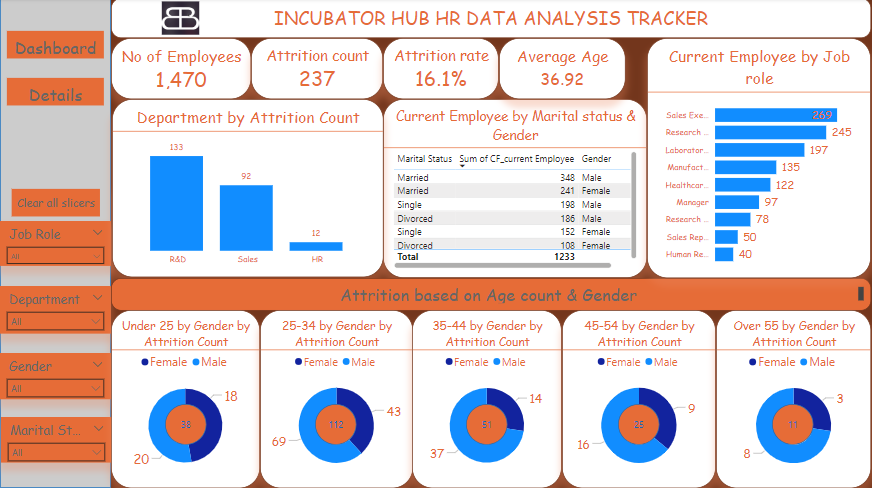

What the dashboard file says about the page in this screenshot:
{"tool":"powerbi","page":{"name":"HR view1","canvas":[1280,720],"ordinal":0},"visuals":[{"type":"textbox","box":[163,0,1117,59],"z":0},{"type":"card","title":"No of Employees","fields":{"Values":["Sum(HR data.Employee Count)"]},"box":[163,59,206,90],"z":1000},{"type":"slicer","title":"Current Employees","fields":{"Values":["HR data.Job Role"]},"box":[0,260,163,175],"z":2000},{"type":"card","title":"Attrition count","fields":{"Values":["Sum(HR data.Count of Attrition)"]},"box":[369,59,194,90],"z":3000},{"type":"card","title":"Attrition rate","fields":{"Values":["HR data.Attrition rate"]},"box":[563,59,170,90],"z":4000},{"type":"shape","box":[0,0,163,720],"z":5000},{"type":"actionButton","box":[11,48,142,40],"z":6000},{"type":"tableEx","title":"Current Employee by Marital status & Gender","fields":{"Values":["HR data.Marital Status","Sum(HR data.CF_current Employee)","HR data.Gender"]},"box":[563,149,418,262],"z":7000},{"type":"actionButton","box":[11,118,142,40],"z":8000},{"type":"slicer","title":"No of Employees","fields":{"Values":["HR data.Department"]},"box":[0,423,163,70],"z":9000},{"type":"slicer","title":"No of Employees","fields":{"Values":["HR data.Gender"]},"box":[0,521,163,68],"z":10000},{"type":"slicer","title":"No of Employees","fields":{"Values":["HR data.Job Role"]},"box":[0,327,163,66],"z":11000},{"type":"slicer","title":"No of Employees","fields":{"Values":["HR data.Marital Status"]},"box":[1,615,163,67],"z":12000},{"type":"card","title":"Average Age","fields":{"Values":["Avg(HR data.Age)"]},"box":[733,59,186,90],"z":13000},{"type":"columnChart","title":"Educatn field by Attrition Count","fields":{"Category":["HR data.Education Field"],"Y":["Sum(HR data.Count of Attrition)"]},"box":[164,149,399,262],"z":14000},{"type":"textbox","box":[163,411,1117,48],"z":15000},{"type":"image","box":[228,0,75,59],"z":16000},{"type":"clusteredBarChart","title":"Current Employee by Job role","fields":{"Category":["HR data.Job Role"],"Y":["Sum(HR data.CF_current Employee)"]},"box":[980,59,300,352],"z":17000},{"type":"donutChart","title":"Under 25 by Gender by Attrition Count","fields":{"Category":["HR data.Gender"],"Y":["Sum(HR data.Count of Attrition)"],"Series":["HR data.CF_age band"]},"box":[163,458,218.5,262],"z":18000},{"type":"actionButton","box":[17,280,129,40],"z":19000},{"type":"donutChart","title":"25-34 by Gender by Attrition Count","fields":{"Category":["HR data.Gender"],"Y":["Sum(HR data.Count of Attrition)"],"Series":["HR data.CF_age band"]},"box":[381.5,458,224.5,262],"z":20000},{"type":"donutChart","title":"35-44 by Gender by Attrition Count","fields":{"Category":["HR data.Gender"],"Y":["Sum(HR data.Count of Attrition)"],"Series":["HR data.CF_age band"]},"box":[606,458,220,262],"z":21000},{"type":"donutChart","title":"45-54 by Gender by Attrition Count","fields":{"Category":["HR data.Gender"],"Y":["Sum(HR data.Count of Attrition)"],"Series":["HR data.CF_age band"]},"box":[826,458,226,262],"z":22000},{"type":"donutChart","title":"Over 55 by Gender by Attrition Count","fields":{"Category":["HR data.Gender"],"Y":["Sum(HR data.Count of Attrition)"],"Series":["HR data.CF_age band"]},"box":[1052,458,228,262],"z":23000},{"type":"shape","box":[242,597,61,60],"z":24000},{"type":"shape","box":[1135,597,61,60],"z":25000},{"type":"shape","box":[908,597,61,60],"z":26000},{"type":"shape","box":[685,597,61,60],"z":27000},{"type":"shape","box":[463,597,61,60],"z":28000}]}

Visuals, with their boxes in screenshot pixels (x1, y1, x2, y2), scaled from the page's 1280x720 canvas onto the 872x488 screenshot:
textbox: <bbox>111, 0, 871, 40</bbox>
"No of Employees" card: <bbox>111, 40, 251, 101</bbox>
"Current Employees" slicer: <bbox>0, 176, 111, 295</bbox>
"Attrition count" card: <bbox>251, 40, 384, 101</bbox>
"Attrition rate" card: <bbox>384, 40, 499, 101</bbox>
shape: <bbox>0, 0, 111, 487</bbox>
actionButton: <bbox>7, 33, 104, 60</bbox>
"Current Employee by Marital status & Gender" tableEx: <bbox>384, 101, 668, 279</bbox>
actionButton: <bbox>7, 80, 104, 107</bbox>
"No of Employees" slicer: <bbox>0, 287, 111, 334</bbox>
"No of Employees" slicer: <bbox>0, 353, 111, 399</bbox>
"No of Employees" slicer: <bbox>0, 222, 111, 266</bbox>
"No of Employees" slicer: <bbox>1, 417, 112, 462</bbox>
"Average Age" card: <bbox>499, 40, 626, 101</bbox>
"Educatn field by Attrition Count" columnChart: <bbox>112, 101, 384, 279</bbox>
textbox: <bbox>111, 279, 871, 311</bbox>
image: <bbox>155, 0, 206, 40</bbox>
"Current Employee by Job role" clusteredBarChart: <bbox>668, 40, 871, 279</bbox>
"Under 25 by Gender by Attrition Count" donutChart: <bbox>111, 310, 260, 487</bbox>
actionButton: <bbox>12, 190, 99, 217</bbox>
"25-34 by Gender by Attrition Count" donutChart: <bbox>260, 310, 413, 487</bbox>
"35-44 by Gender by Attrition Count" donutChart: <bbox>413, 310, 563, 487</bbox>
"45-54 by Gender by Attrition Count" donutChart: <bbox>563, 310, 717, 487</bbox>
"Over 55 by Gender by Attrition Count" donutChart: <bbox>717, 310, 871, 487</bbox>
shape: <bbox>165, 405, 206, 445</bbox>
shape: <bbox>773, 405, 815, 445</bbox>
shape: <bbox>619, 405, 660, 445</bbox>
shape: <bbox>467, 405, 508, 445</bbox>
shape: <bbox>315, 405, 357, 445</bbox>
